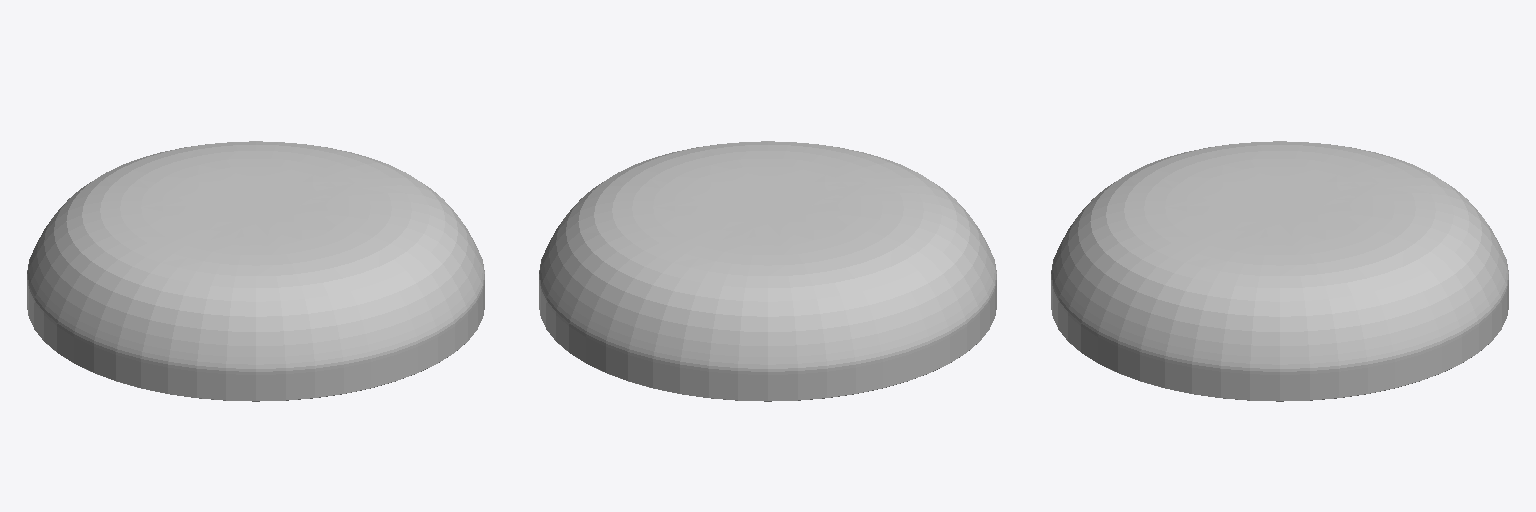
Rendered from button_top2.obj.
3 renders of one model, left to right at view 1: azimuth 30°, elevation 25°; view 2: azimuth 150°, elevation 25°; view 3: azimuth 270°, elevation 25°, orthographic.
Parts seen in each view (by area): view 1: emergencybutton_Circle; view 2: emergencybutton_Circle; view 3: emergencybutton_Circle.
Part boxes in pixels (x1,y1,x2,y2): emergencybutton_Circle: (27, 141, 484, 401); emergencybutton_Circle: (539, 141, 996, 401); emergencybutton_Circle: (1051, 141, 1508, 401).
Size of the model in its own units: 0.3156 by 0.0763 by 0.3156.